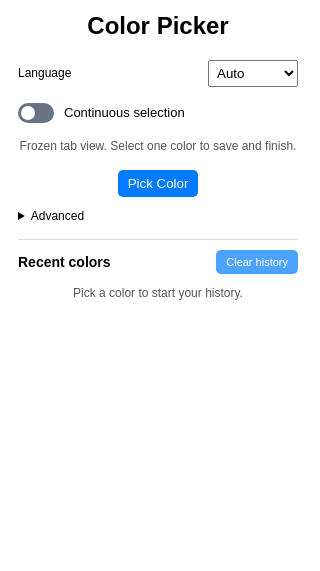
it: continuous overlay startup › explains how to reload the extension when scripting permission has not been applied
Click the switch labelled "Continuous selection" at (101, 113), box [18,103,185,123]
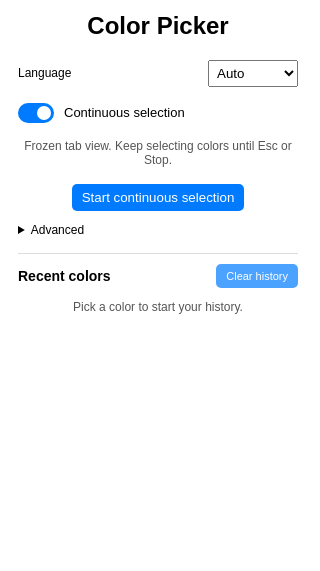
Click the button "Start continuous selection" at (158, 197), box [72,184,244,211]
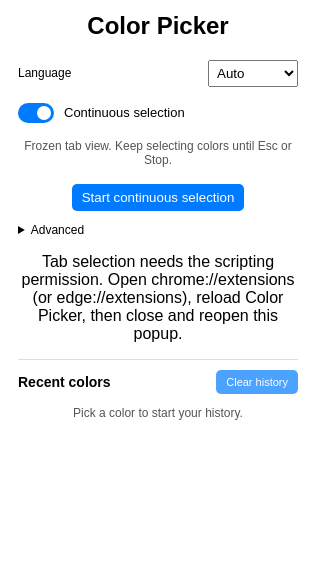
Now the message shows "scripting permission", box [22,253,294,342]
Click the heading "Advanced" at (57, 230), box [31,223,84,237]
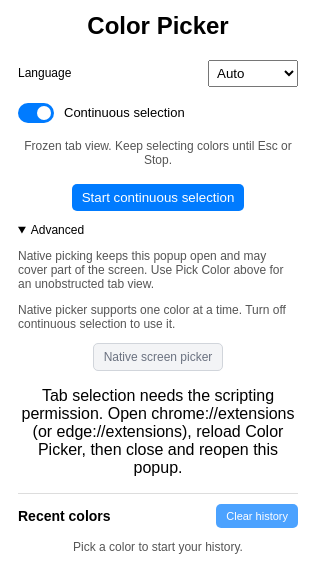
Click the switch labelled "Continuous selection" at (101, 113), box [18,103,185,123]
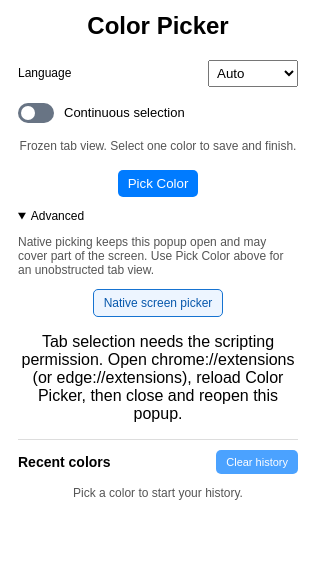
Click the button "Native screen picker" at (158, 303), box [93,289,223,317]
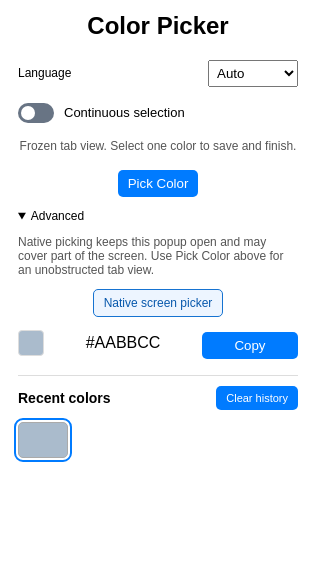
Now the text "#AABBCC" is shown, box [86,334,160,352]
